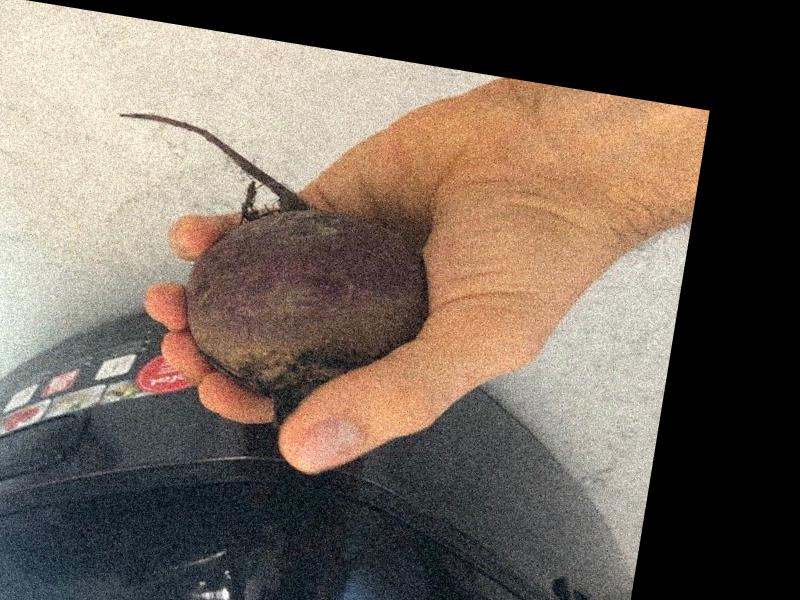Beet: (74, 109, 450, 445)
